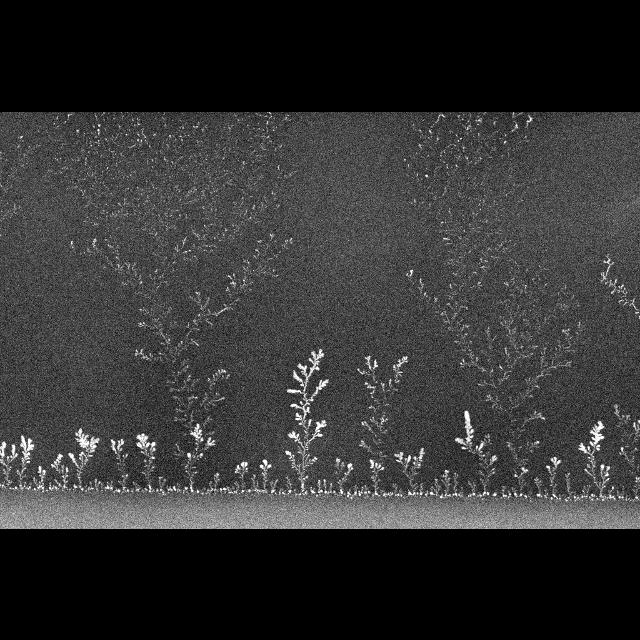dendrites: (285, 348, 329, 495), (578, 419, 616, 500), (455, 409, 497, 467), (520, 358, 572, 397), (68, 427, 100, 490), (184, 409, 203, 491), (394, 446, 425, 495), (600, 253, 628, 305), (136, 432, 156, 489), (110, 438, 129, 491), (16, 434, 34, 488), (0, 440, 18, 486), (545, 456, 561, 499), (334, 458, 353, 493), (51, 453, 69, 489), (357, 354, 379, 383), (477, 370, 512, 388), (369, 458, 384, 496), (460, 351, 487, 371), (506, 441, 528, 465), (207, 368, 230, 390), (510, 338, 533, 358), (234, 461, 248, 492), (393, 355, 408, 382), (260, 458, 272, 491), (521, 410, 545, 426), (514, 466, 529, 491), (190, 291, 209, 309), (370, 414, 388, 433), (33, 465, 46, 491), (441, 469, 451, 497), (207, 472, 220, 492), (253, 266, 279, 276), (171, 365, 188, 380), (619, 446, 634, 463), (500, 319, 516, 334), (135, 348, 153, 361), (477, 478, 490, 496), (564, 472, 572, 501), (212, 303, 232, 314), (248, 474, 260, 492), (631, 476, 640, 498), (323, 478, 336, 493), (359, 440, 374, 453), (614, 403, 625, 420), (201, 436, 215, 449), (431, 478, 441, 495), (486, 394, 499, 407), (534, 475, 542, 496), (187, 322, 199, 336), (632, 421, 640, 441), (347, 484, 358, 498), (208, 396, 225, 405), (510, 396, 520, 411), (452, 471, 458, 495), (361, 420, 373, 432), (365, 381, 377, 393), (540, 346, 547, 366), (138, 321, 158, 328), (285, 475, 292, 494), (581, 484, 591, 497), (270, 478, 278, 494), (468, 480, 476, 496), (159, 475, 166, 493), (181, 374, 190, 388), (358, 485, 369, 496), (240, 278, 251, 289), (202, 415, 212, 427), (220, 485, 237, 492), (629, 297, 638, 310), (441, 310, 450, 323), (504, 358, 517, 367), (200, 392, 208, 406), (530, 440, 540, 451), (418, 278, 425, 293), (228, 274, 236, 287), (190, 378, 199, 389), (175, 443, 184, 454), (510, 120, 519, 131), (167, 485, 181, 492), (95, 477, 102, 491), (525, 114, 532, 128), (104, 480, 113, 490), (188, 395, 197, 405), (85, 481, 94, 491), (108, 147, 117, 157), (175, 340, 183, 351), (266, 115, 275, 124), (49, 480, 59, 488), (435, 113, 445, 121), (317, 479, 323, 492), (181, 235, 187, 248), (500, 485, 507, 496), (511, 486, 518, 497), (512, 111, 523, 118), (441, 184, 448, 195), (113, 263, 124, 270), (153, 331, 165, 337), (192, 229, 200, 238), (474, 156, 483, 164), (92, 237, 98, 249), (259, 201, 268, 209), (133, 481, 140, 491), (462, 122, 472, 129), (139, 306, 149, 313), (258, 134, 271, 139), (474, 115, 482, 123), (176, 407, 185, 414), (488, 467, 495, 476), (163, 306, 172, 313), (369, 404, 377, 411), (406, 269, 413, 277), (447, 302, 455, 309), (486, 326, 490, 340), (260, 142, 267, 150), (624, 414, 630, 423), (165, 338, 170, 348), (565, 348, 575, 353), (141, 127, 146, 137), (271, 190, 276, 200), (204, 308, 211, 315), (192, 338, 199, 345), (462, 324, 469, 331), (562, 303, 569, 310), (284, 113, 291, 120), (289, 170, 296, 177), (173, 184, 180, 191), (173, 451, 181, 457), (419, 482, 423, 494), (617, 489, 623, 497), (562, 328, 570, 334), (479, 265, 487, 271), (461, 332, 467, 340), (110, 211, 118, 217), (79, 187, 85, 195), (13, 202, 17, 214), (283, 238, 288, 247), (505, 347, 510, 356), (72, 155, 81, 160), (175, 416, 186, 420), (205, 317, 212, 323), (565, 340, 571, 347), (451, 312, 457, 319), (242, 265, 249, 271), (171, 353, 175, 363), (170, 387, 180, 391), (173, 396, 181, 401), (383, 491, 393, 495), (485, 433, 490, 441), (544, 488, 548, 498), (459, 305, 469, 309), (499, 299, 507, 304), (254, 248, 259, 256), (243, 258, 251, 263), (182, 249, 191, 253), (381, 382, 385, 391), (447, 142, 456, 146), (55, 157, 61, 163), (226, 178, 232, 184), (254, 111, 263, 115), (465, 345, 472, 350), (67, 112, 72, 119), (207, 430, 215, 434), (468, 339, 472, 347), (94, 112, 98, 120), (244, 207, 248, 215), (270, 233, 275, 239), (108, 243, 114, 248), (125, 261, 130, 267), (193, 318, 198, 324), (183, 358, 188, 364), (183, 486, 188, 492), (310, 486, 315, 492), (478, 469, 484, 474), (389, 378, 392, 388), (557, 339, 560, 349), (498, 240, 503, 246), (477, 280, 482, 286), (499, 364, 504, 370), (87, 246, 92, 252), (97, 137, 102, 143), (216, 186, 222, 191), (250, 149, 256, 154), (132, 262, 136, 269), (174, 244, 178, 251), (24, 484, 31, 488), (525, 441, 529, 448), (492, 334, 496, 341), (511, 277, 515, 284), (153, 317, 160, 321), (115, 132, 119, 139), (128, 144, 135, 148), (524, 284, 527, 293), (393, 483, 398, 488), (458, 491, 463, 496), (574, 495, 579, 500), (633, 446, 638, 451), (618, 283, 623, 288), (466, 129, 471, 134), (492, 145, 497, 150), (108, 261, 113, 266), (137, 138, 142, 143), (235, 226, 240, 231), (203, 233, 208, 238), (114, 488, 120, 492), (418, 142, 422, 148), (472, 211, 478, 215), (577, 321, 581, 327), (134, 290, 140, 294), (127, 278, 133, 282), (97, 127, 100, 135), (145, 138, 149, 144), (164, 155, 168, 161), (202, 189, 205, 196), (395, 493, 402, 496), (508, 490, 511, 497), (479, 256, 482, 263), (443, 236, 450, 239), (62, 165, 69, 168), (492, 492, 497, 496), (226, 286, 230, 291), (159, 351, 164, 355), (193, 254, 198, 258), (303, 490, 308, 494), (498, 314, 503, 318), (458, 318, 463, 322), (448, 326, 453, 330), (489, 368, 493, 373), (543, 282, 547, 287), (101, 111, 106, 115), (162, 116, 166, 121), (239, 165, 244, 169), (276, 202, 280, 207), (252, 204, 256, 209), (229, 234, 234, 238), (257, 239, 262, 243), (265, 242, 269, 247), (125, 187, 129, 192), (290, 237, 293, 243), (141, 226, 147, 229), (279, 488, 282, 494), (511, 419, 517, 422), (429, 128, 432, 134), (458, 191, 461, 197), (138, 274, 141, 280), (70, 240, 73, 246), (169, 134, 175, 137), (277, 164, 280, 170), (191, 427, 195, 431), (2, 483, 6, 487), (589, 495, 593, 499), (504, 281, 508, 285), (424, 292, 428, 296), (456, 155, 460, 159), (472, 176, 476, 180), (449, 295, 453, 299), (522, 318, 530, 320), (570, 295, 574, 299), (154, 268, 158, 272), (85, 156, 87, 164), (36, 143, 40, 147), (204, 123, 208, 127), (196, 139, 200, 143), (233, 112, 237, 116), (277, 250, 281, 254), (177, 481, 180, 486), (365, 484, 368, 489), (440, 492, 443, 497), (379, 438, 382, 443), (384, 402, 389, 405), (392, 387, 397, 390), (450, 283, 453, 288), (434, 296, 437, 301), (448, 249, 453, 252), (461, 347, 466, 350), (122, 281, 127, 284), (93, 221, 98, 224), (23, 152, 26, 157), (8, 173, 13, 176), (137, 121, 140, 126), (267, 111, 272, 114), (208, 243, 213, 246), (490, 255, 497, 257), (118, 201, 121, 205), (125, 212, 128, 216), (116, 226, 120, 229), (254, 254, 257, 258), (204, 405, 208, 408), (198, 312, 201, 316), (185, 213, 188, 217), (155, 231, 158, 235), (130, 488, 133, 492), (73, 484, 77, 487), (282, 491, 286, 494), (486, 450, 490, 453), (591, 493, 595, 496), (635, 311, 639, 314), (518, 445, 522, 448), (518, 433, 521, 437), (532, 344, 538, 346), (555, 346, 558, 350), (473, 271, 477, 274), (436, 136, 439, 140), (483, 111, 487, 114), (465, 155, 468, 159), (468, 160, 472, 163), (448, 207, 450, 213), (485, 219, 488, 223), (468, 249, 472, 252), (520, 288, 523, 292), (539, 264, 542, 268), (159, 327, 163, 330), (139, 280, 142, 284), (83, 251, 86, 255), (105, 255, 108, 259), (116, 255, 119, 259), (80, 177, 86, 179), (88, 165, 91, 169), (97, 123, 101, 126), (77, 128, 80, 132), (0, 180, 2, 186), (118, 124, 121, 128), (152, 132, 156, 135), (179, 134, 183, 137), (171, 160, 174, 164), (166, 143, 170, 146), (201, 127, 204, 131), (228, 126, 232, 129), (209, 190, 213, 193), (279, 144, 282, 148), (284, 173, 287, 177), (248, 216, 252, 219), (274, 254, 278, 257), (212, 244, 216, 247), (210, 247, 213, 251), (207, 216, 210, 220), (146, 194, 149, 198), (12, 486, 17, 488), (626, 494, 628, 499), (509, 430, 514, 432), (483, 197, 485, 202), (446, 242, 451, 244), (454, 340, 459, 342), (565, 284, 567, 289), (193, 125, 198, 127), (164, 121, 166, 126), (267, 257, 272, 259), (103, 264, 106, 267), (179, 213, 182, 216), (194, 188, 197, 191), (185, 432, 188, 435), (188, 440, 191, 443), (196, 489, 199, 492), (430, 491, 433, 494), (448, 493, 451, 496), (484, 437, 487, 440), (479, 462, 482, 465), (520, 492, 523, 495), (524, 494, 527, 497), (628, 496, 631, 499), (371, 394, 374, 397), (520, 344, 523, 347), (570, 335, 573, 338), (508, 238, 511, 241), (425, 173, 428, 176), (419, 128, 422, 131), (457, 114, 460, 117), (455, 133, 458, 136), (504, 140, 507, 143), (524, 135, 527, 138), (455, 163, 458, 166), (443, 149, 446, 152), (441, 220, 444, 223), (455, 259, 458, 262), (447, 261, 450, 264), (455, 301, 458, 304), (85, 203, 88, 206), (100, 153, 103, 156), (104, 137, 107, 140), (20, 135, 23, 138), (17, 144, 20, 147), (28, 145, 31, 148), (18, 205, 21, 208), (60, 134, 63, 137), (112, 135, 115, 138), (139, 143, 142, 146), (137, 117, 140, 120), (174, 137, 177, 140), (224, 172, 227, 175), (225, 228, 228, 231), (205, 243, 208, 246), (202, 205, 205, 208), (136, 185, 139, 188), (130, 188, 133, 191), (140, 187, 143, 190), (143, 202, 146, 205), (233, 273, 235, 277), (161, 341, 165, 343), (216, 392, 220, 394), (165, 212, 167, 216), (223, 232, 225, 236), (156, 487, 158, 491), (638, 419, 640, 423), (383, 454, 387, 456), (373, 438, 375, 442), (374, 398, 378, 400), (485, 259, 489, 261), (453, 271, 457, 273), (458, 236, 462, 238), (430, 124, 434, 126), (493, 120, 495, 124), (446, 163, 448, 167), (414, 198, 416, 202), (477, 225, 481, 227), (544, 317, 546, 321), (560, 303, 562, 307), (544, 267, 548, 269), (74, 185, 78, 187), (116, 161, 118, 165), (56, 115, 58, 119), (0, 150, 2, 154), (0, 155, 2, 159), (48, 169, 52, 171), (122, 114, 124, 118), (132, 117, 134, 121), (182, 124, 184, 128), (243, 160, 245, 164), (266, 127, 268, 131), (104, 238, 107, 240), (173, 260, 176, 262), (167, 379, 170, 381), (204, 224, 207, 226), (170, 214, 173, 216), (202, 491, 204, 494), (295, 492, 298, 494), (425, 492, 427, 495), (551, 496, 553, 499), (638, 464, 640, 467), (621, 438, 623, 441), (617, 424, 620, 426), (596, 497, 599, 499), (565, 336, 568, 338), (506, 334, 509, 336), (463, 229, 466, 231), (505, 133, 507, 136), (463, 146, 466, 148), (446, 171, 449, 173), (479, 207, 481, 210), (450, 258, 453, 260), (449, 297, 451, 300), (532, 277, 534, 280), (156, 285, 159, 287), (106, 210, 109, 212), (102, 209, 105, 211), (105, 202, 107, 205), (92, 173, 94, 176), (107, 166, 109, 169), (80, 170, 83, 172), (93, 124, 95, 127), (57, 124, 59, 127), (60, 156, 62, 159), (60, 170, 62, 173), (125, 133, 128, 135), (138, 133, 140, 136), (149, 144, 151, 147), (163, 112, 165, 115), (181, 137, 183, 140), (152, 158, 154, 161), (241, 117, 243, 120), (222, 156, 225, 158), (257, 127, 260, 129), (272, 128, 275, 130), (269, 139, 272, 141), (241, 196, 243, 199), (232, 223, 234, 226), (274, 239, 277, 241), (211, 208, 213, 211), (140, 192, 143, 194), (130, 173, 132, 176), (164, 173, 167, 175), (84, 131, 85, 136), (112, 241, 114, 243), (135, 274, 137, 276), (193, 244, 195, 246), (173, 224, 175, 226), (166, 226, 168, 228), (34, 487, 36, 489), (10, 486, 12, 488), (294, 488, 296, 490), (316, 494, 318, 496), (368, 490, 370, 492), (625, 445, 629, 446), (380, 450, 382, 452), (502, 391, 504, 393), (514, 243, 516, 245), (488, 247, 490, 249), (466, 299, 468, 301), (429, 202, 431, 204), (412, 123, 414, 125), (428, 136, 430, 138), (462, 117, 464, 119), (477, 123, 479, 125), (457, 139, 459, 141), (460, 137, 462, 139), (440, 154, 442, 156), (440, 151, 442, 153), (469, 222, 471, 224), (459, 255, 461, 257), (459, 341, 461, 343), (159, 323, 163, 324), (144, 312, 146, 314), (72, 245, 74, 247), (114, 249, 116, 251), (117, 252, 119, 254), (106, 214, 108, 216), (102, 170, 104, 172), (95, 164, 97, 166), (94, 171, 96, 173), (90, 144, 92, 146), (95, 140, 97, 142), (64, 120, 66, 122), (53, 122, 55, 124), (5, 158, 7, 160), (22, 139, 24, 141), (198, 121, 199, 125), (179, 126, 181, 128), (237, 118, 239, 120), (208, 172, 210, 174), (264, 115, 268, 116), (275, 147, 277, 149), (243, 190, 245, 192), (203, 248, 205, 250), (214, 236, 216, 238), (127, 175, 129, 177), (148, 190, 150, 192), (124, 201, 125, 204), (128, 201, 129, 204), (189, 190, 190, 193), (218, 233, 219, 236), (461, 486, 462, 489), (375, 434, 376, 437), (639, 315, 640, 318), (529, 377, 530, 380), (429, 296, 430, 299), (408, 163, 409, 166), (470, 113, 471, 116), (478, 132, 479, 135), (479, 199, 482, 200), (479, 202, 480, 205), (466, 238, 469, 239), (558, 291, 559, 294), (83, 220, 86, 221), (86, 216, 89, 217), (95, 175, 96, 178), (54, 172, 57, 173), (112, 117, 115, 118), (249, 145, 252, 146), (250, 195, 253, 196), (209, 223, 212, 224), (124, 198, 126, 199), (134, 271, 135, 273), (162, 274, 163, 276), (163, 280, 164, 282), (188, 193, 189, 195), (159, 214, 160, 216), (454, 282, 455, 284), (404, 157, 405, 159), (468, 119, 469, 121), (417, 173, 418, 175), (456, 334, 458, 335), (80, 252, 82, 253), (87, 171, 88, 173), (74, 182, 76, 183), (111, 173, 112, 175), (113, 177, 115, 178), (88, 150, 89, 152), (184, 134, 186, 135), (206, 158, 208, 159), (219, 239, 221, 240), (215, 208, 217, 209), (527, 268, 528, 269), (107, 171, 108, 172), (104, 184, 105, 185), (122, 206, 122, 210), (160, 275, 160, 278), (156, 358, 160, 358)
